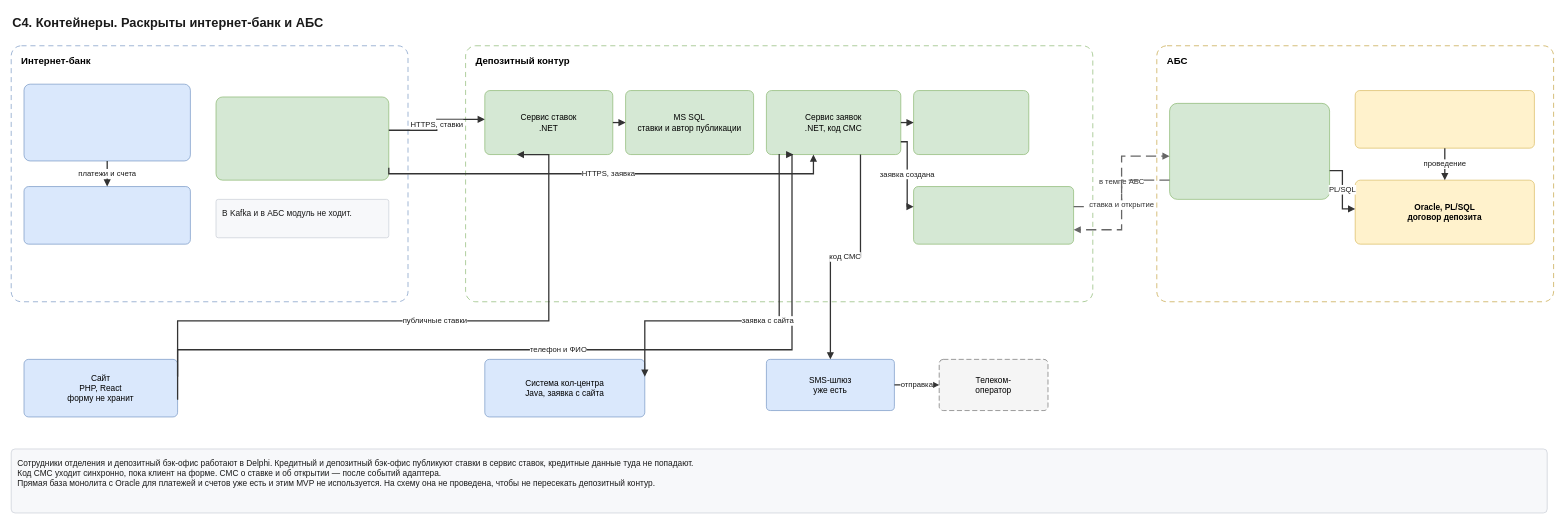
This 1565x524 diagram has some shape labels left out. Each missing label, with the centre of its shape:
Delphi-клиент отделение и бэк-офис: the point at 1444,119
Kafka монолит не подключён: the point at 993,215
MS SQL заявка и статус: the point at 971,122
MS SQL монолита заявок депозита здесь нет: the point at 106,215
Адаптер Java, команда АБС пишет через PL/SQL в своём темпе: the point at 1249,151
Модуль «Депозиты» экраны ASP.NET витрина и форма: the point at 302,138
Монолит платежи и текущие счета ядро не меняется: the point at 106,122
